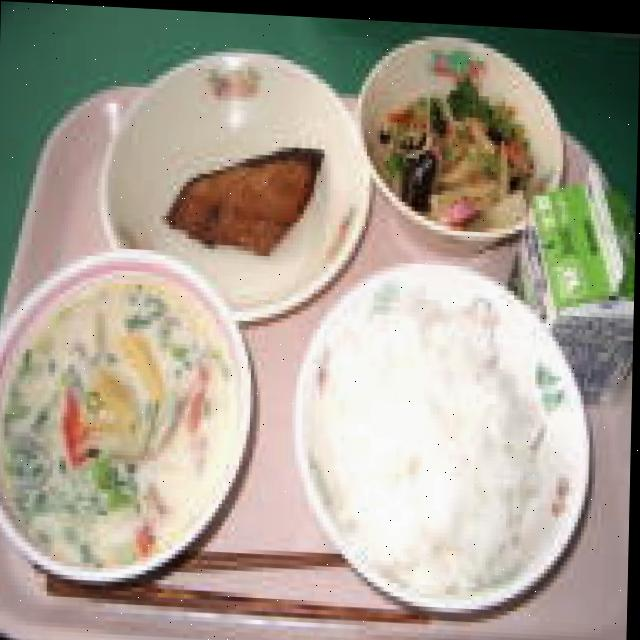米饭主食: (303, 298, 580, 603)
